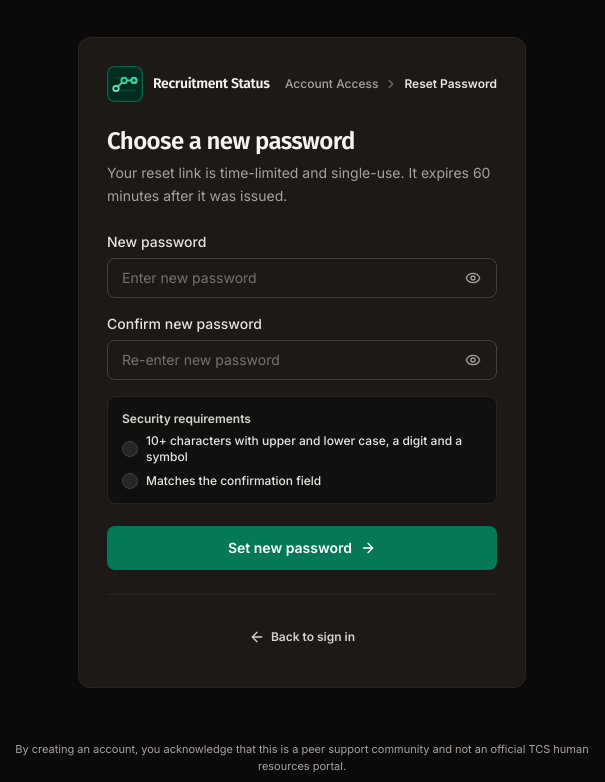
Test case: ResetPasswordPage › renders the attempted token in a wrapping-safe pill on the invalid-link path
Type "Str0ng!Pass" into the password field labelled "New password" at coordinates (302, 278), box [107, 258, 497, 298]
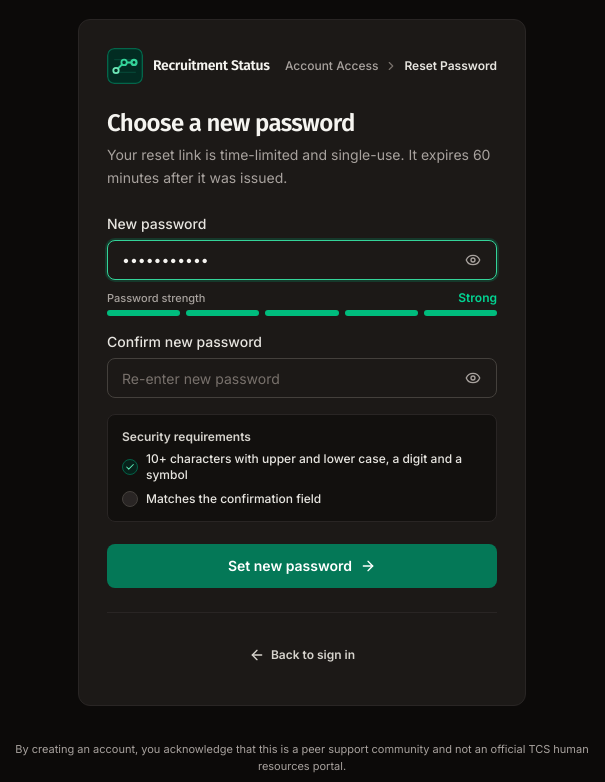
Type "Str0ng!Pass" into the password field labelled "Confirm new password" at coordinates (302, 378), box [107, 358, 497, 398]
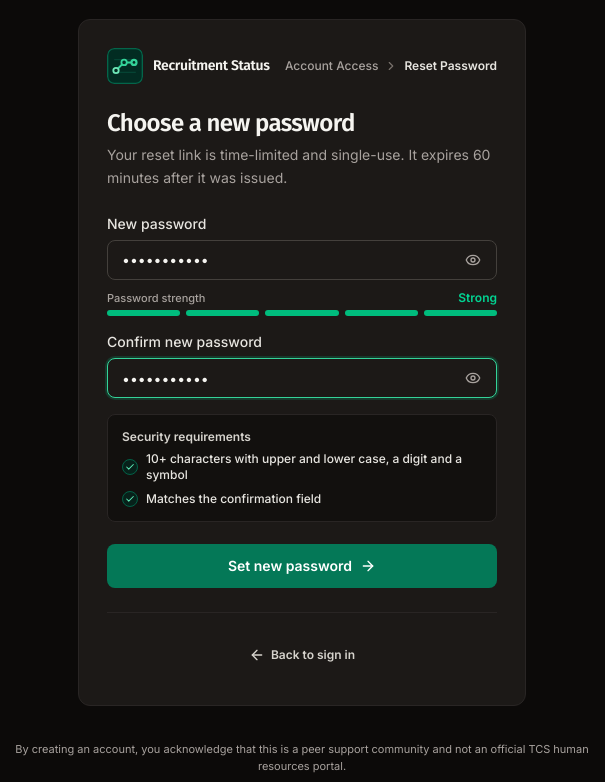
Click the button "Set new password" at coordinates (302, 566), box [107, 544, 497, 588]
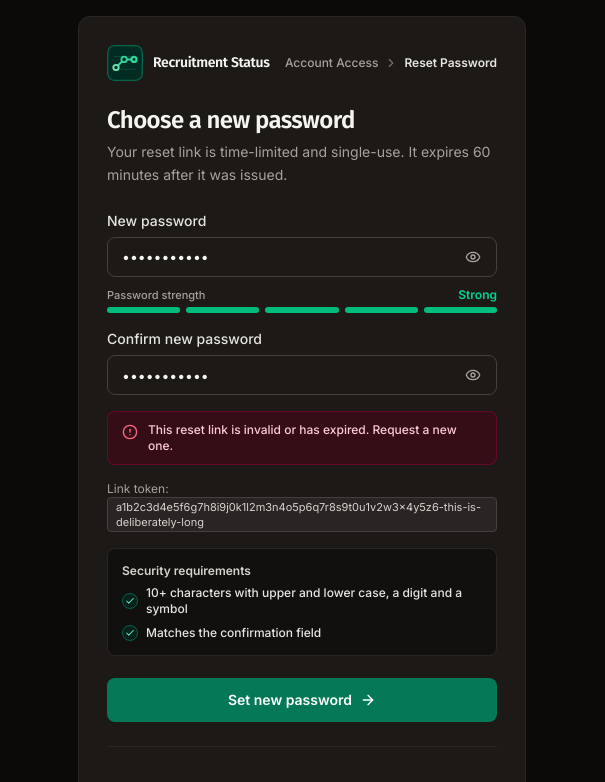
Check: the message reads "This reset link is invalid or has expired. Request a new one.", box [148, 422, 457, 453]
Check: the text with test id "attempted-token" reads "a1b2c3d4e5f6g7h8i9j0k1l2m3n4o5p6q7r8s9t0u1v2w3x4y5z6-this-is-deliberately-long", box [116, 500, 481, 529]
